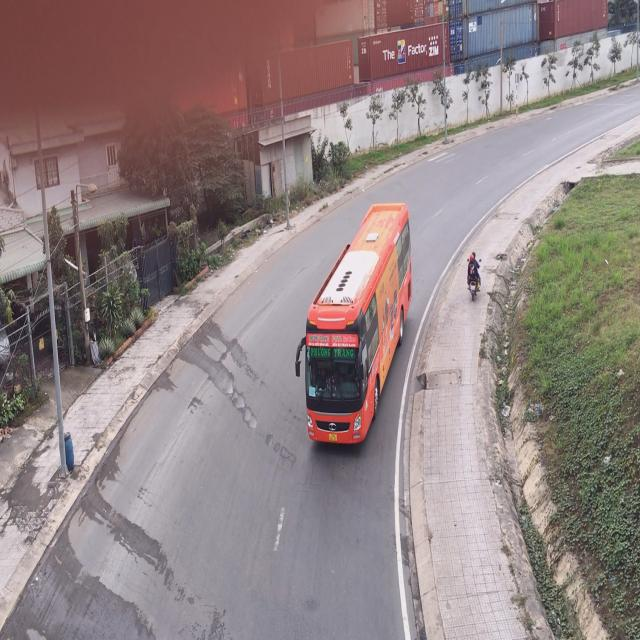bus: (296, 207, 407, 453)
motorbike: (464, 254, 481, 303)
